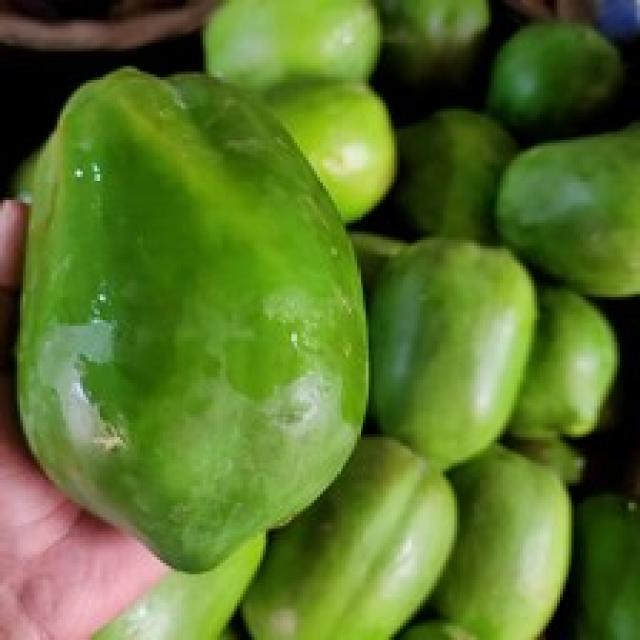Pepaya unrippen: (19, 64, 382, 584)
